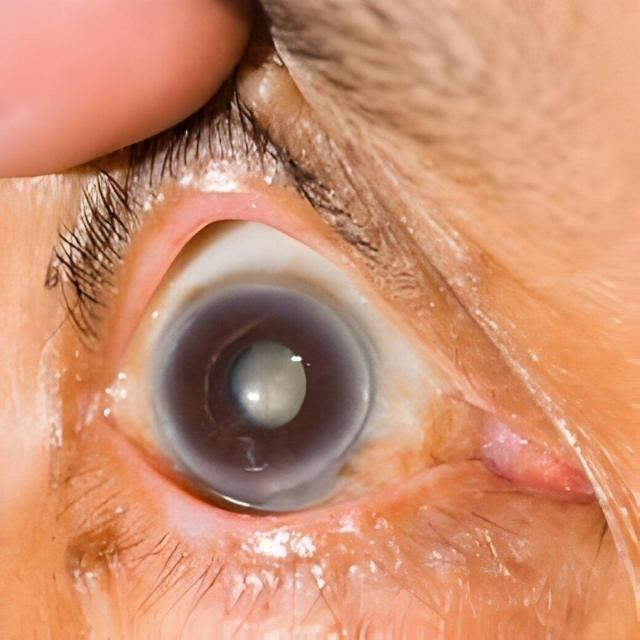Cataract: (140, 267, 380, 498)
